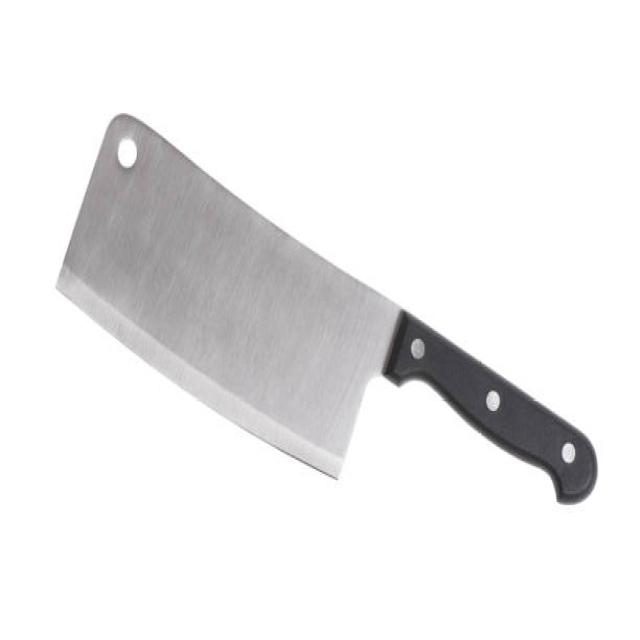knife: (52, 101, 607, 535)
